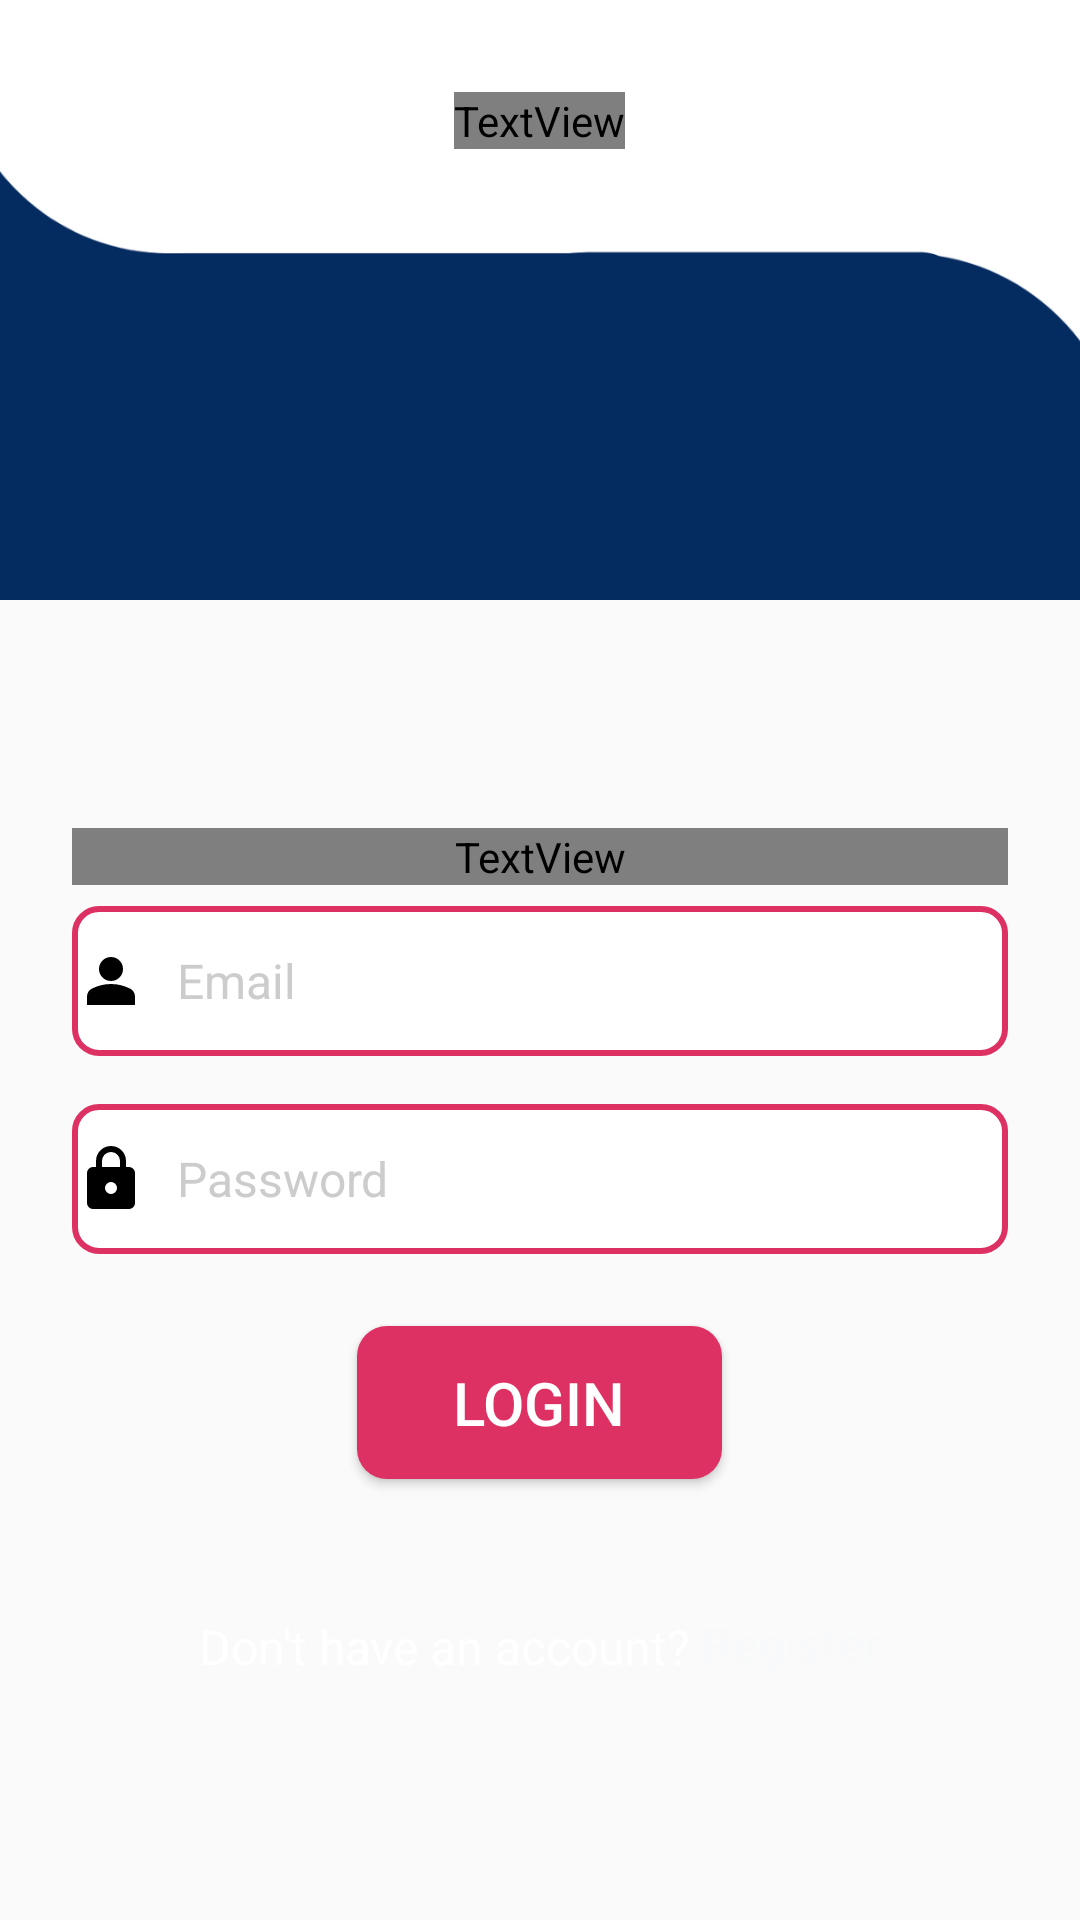

Where icons sit on this 1080px x 1920px app screen, as bbox=(x1, y1, x2, y2):
user: bbox=(87, 957, 135, 1005)
